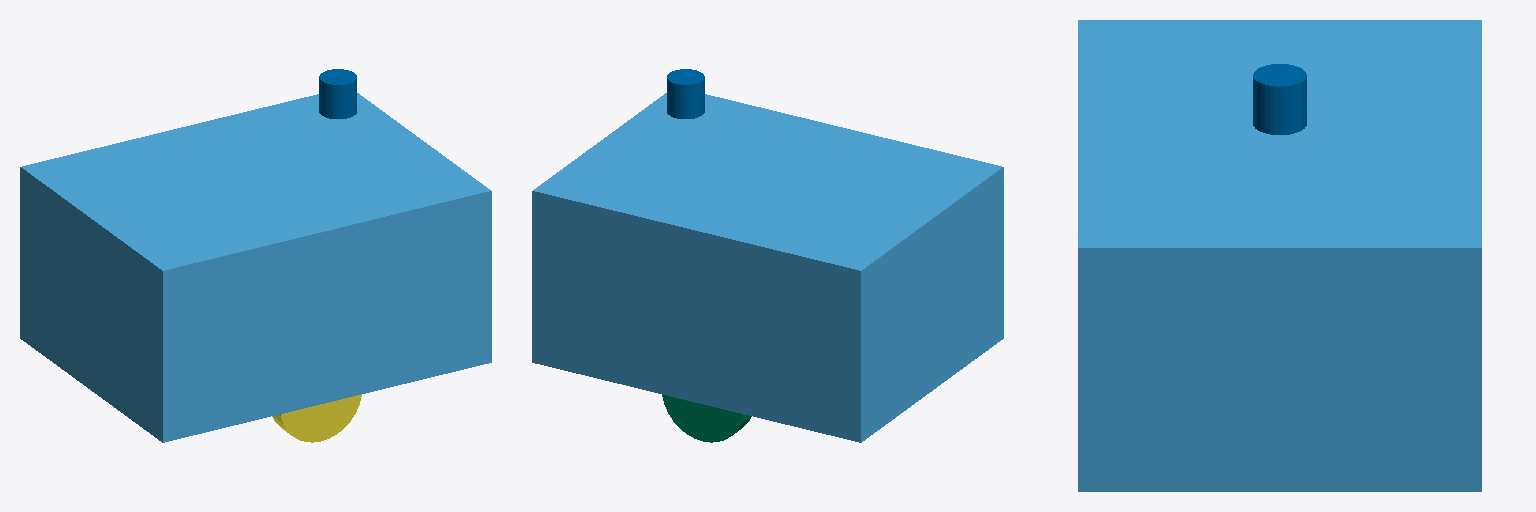
URDF robot description (r01):
<robot name="r01" version="1.0">
<link name="base_footprint"/>
<joint name="base_fixed" type="fixed"><parent link="base_footprint"/><child link="base_link"/><origin xyz="0 0 0.2"/><axis xyz="0 1 0"/></joint>
<link name="base_link"><inertial><mass value="10"/><inertia ixx="1" ixy="0" ixz="0" iyy="1" iyz="0" izz="1"/></inertial><visual><origin xyz="0 0 0.3" rpy="0 0 0"/><geometry><box size="0.8 0.6 0.4"/></geometry></visual><collision><origin xyz="0 0 0.3" rpy="0 0 0"/><geometry><box size="0.8 0.6 0.4"/></geometry></collision></link>
<link name="left_wheel"><visual><origin xyz="0 0 0" rpy="1.5707963267948966 0 0"/><geometry><cylinder radius="0.1" length="0.05"/></geometry></visual><collision><origin xyz="0 0 0" rpy="1.5707963267948966 0 0"/><geometry><cylinder radius="0.1" length="0.05"/></geometry></collision></link>
<joint name="left_wheel_joint" type="continuous"><parent link="base_link"/><child link="left_wheel"/><origin xyz="0 0.25 0.1"/><axis xyz="0 1 0"/><limit effort="100" velocity="1000"/></joint>
<link name="right_wheel"><visual><origin xyz="0 0 0" rpy="1.5707963267948966 0 0"/><geometry><cylinder radius="0.1" length="0.05"/></geometry></visual><collision><origin xyz="0 0 0" rpy="1.5707963267948966 0 0"/><geometry><cylinder radius="0.1" length="0.05"/></geometry></collision></link>
<joint name="right_wheel_joint" type="continuous"><parent link="base_link"/><child link="right_wheel"/><origin xyz="0 -0.25 0.1"/><axis xyz="0 1 0"/><limit effort="100" velocity="1000"/></joint>
<link name="lidar_link"><visual><origin xyz="0 0 0" rpy="0 0 0"/><geometry><cylinder radius="0.04" length="0.08"/></geometry></visual><collision><origin xyz="0 0 0" rpy="0 0 0"/><geometry><cylinder radius="0.04" length="0.08"/></geometry></collision></link>
<joint name="lidar_fixed" type="fixed"><parent link="base_link"/><child link="lidar_link"/><origin xyz="0.2 0 0.65"/><axis xyz="0 1 0"/></joint>
</robot>

--- Facts derived from the render (not from the file) ---
The picture shows the robot from 3 angles, left to right: view 1: azimuth 30°, elevation 25°; view 2: azimuth 150°, elevation 25°; view 3: azimuth 270°, elevation 25°; orthographic projection.
Model r01 with 5 links and 4 joints (2 continuous, 2 fixed), rooted at base_footprint, posed all joints at 0.
Links seen in each view (by area): view 1: base_link, right_wheel, lidar_link; view 2: base_link, left_wheel, lidar_link; view 3: base_link, lidar_link.
Link boxes in pixels (x1,y1,x2,y2): base_link: (20,93,491,442); right_wheel: (272,394,361,442); lidar_link: (319,69,356,118); base_link: (532,93,1003,442); left_wheel: (662,394,751,442); lidar_link: (667,69,704,118); base_link: (1078,20,1481,491); lidar_link: (1253,64,1306,134).
Bounding box of the posed robot: 0.8 × 0.6 × 0.69 m (x, y, z).
Geometry: primitives only (box / cylinder / sphere), no mesh files.
